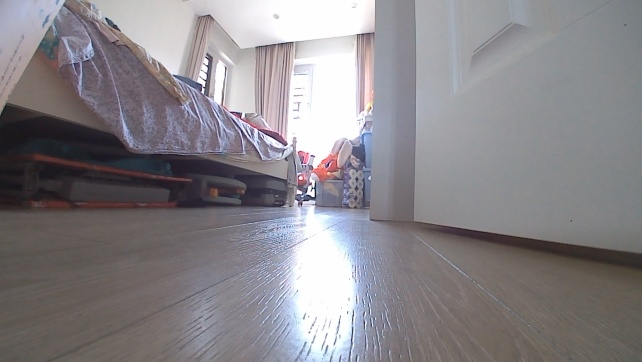bed: (0, 0, 300, 208)
door_anno: (410, 0, 641, 257)
